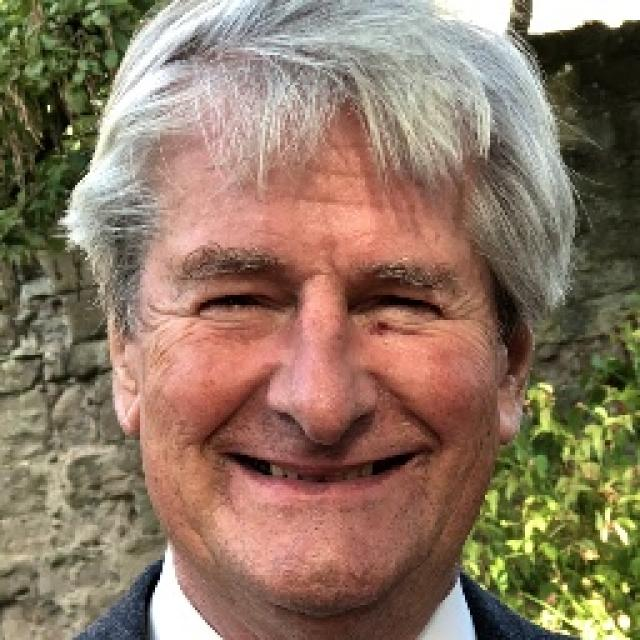earlobe: (493, 393, 527, 446), (110, 383, 143, 437)
eye: (192, 289, 290, 325), (359, 287, 448, 325)
nose: (262, 403, 384, 449)
wholeear: (98, 272, 142, 438), (494, 302, 532, 446)
